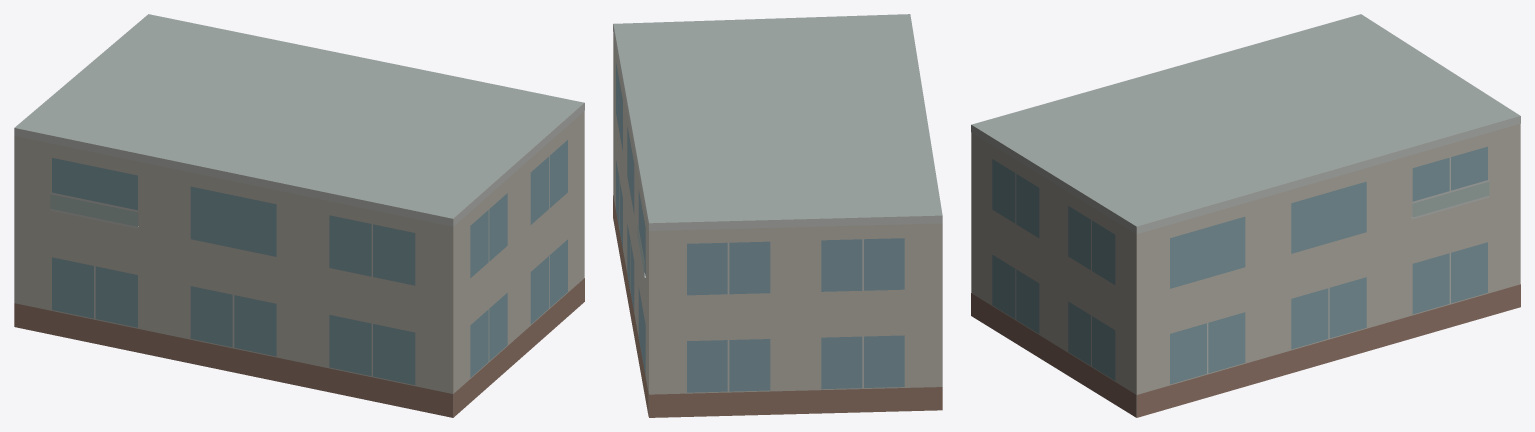
File: survey-upis-32885901.glb
3 renders of one model, left to right at view 1: azimuth 30°, elevation 25°; view 2: azimuth 150°, elevation 25°; view 3: azimuth 270°, elevation 25°, orthographic. The views are drawn at different scales.
Parts seen in each view (by area): view 1: survey-upis-32885901.tmp; view 2: survey-upis-32885901.tmp; view 3: survey-upis-32885901.tmp.
Part boxes in pixels (x1,y1,x2,y2): survey-upis-32885901.tmp: (14, 14, 584, 417); survey-upis-32885901.tmp: (613, 14, 942, 417); survey-upis-32885901.tmp: (971, 14, 1520, 417).
Size of the model in its own units: 14.56 by 6.1 by 15.9.
